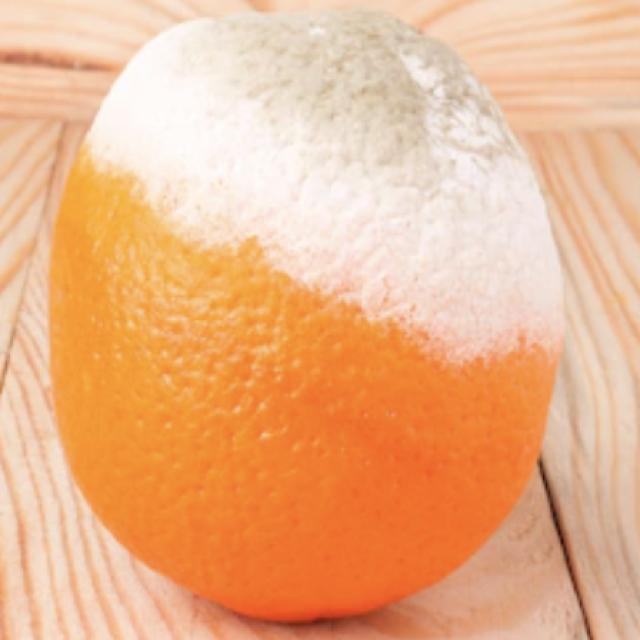sedikit_busuk: (46, 10, 557, 619)
